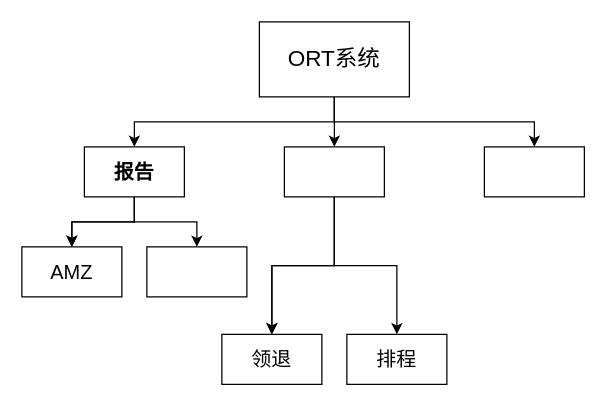
The diagram is 606 pixels wide and 406 high, and some of its shapes have lost their labels. The shapes that lost their labels are listed below. From the top down, each one's centre as x and y in pixels, then its label:
point (333, 171): 领用
point (533, 171): 管理
point (196, 271): MP Stage
